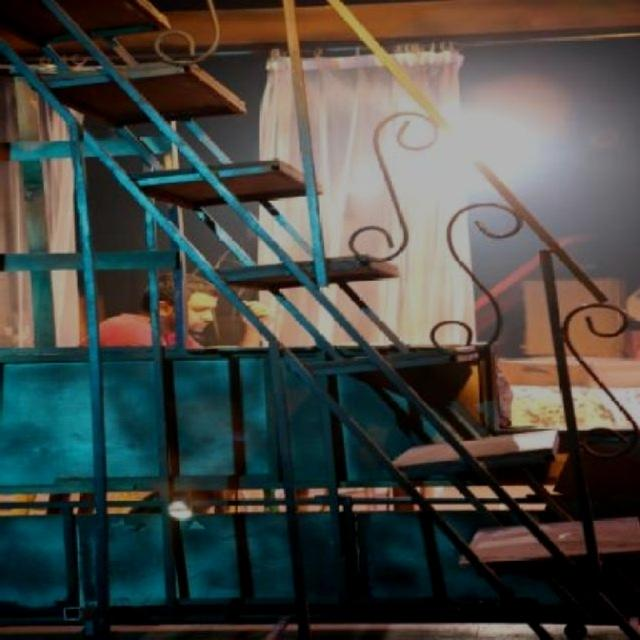stair: (2, 0, 640, 574)
